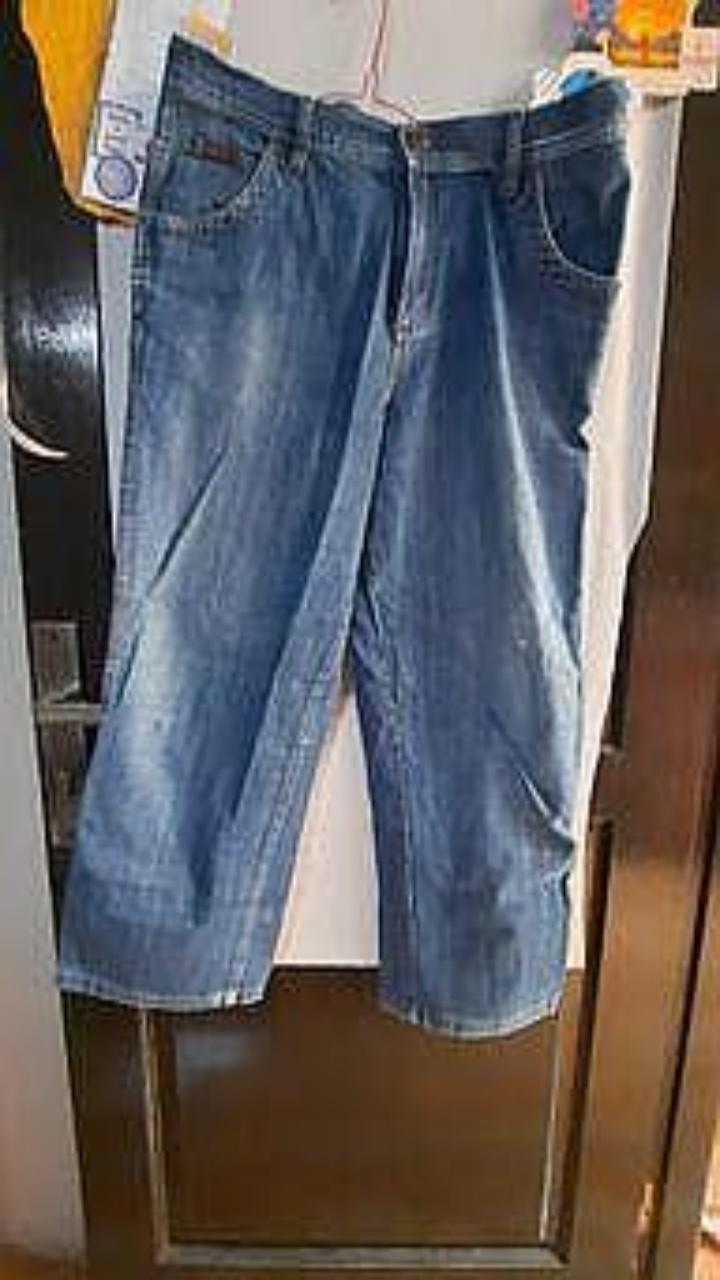Jeans: (58, 36, 629, 1036)
